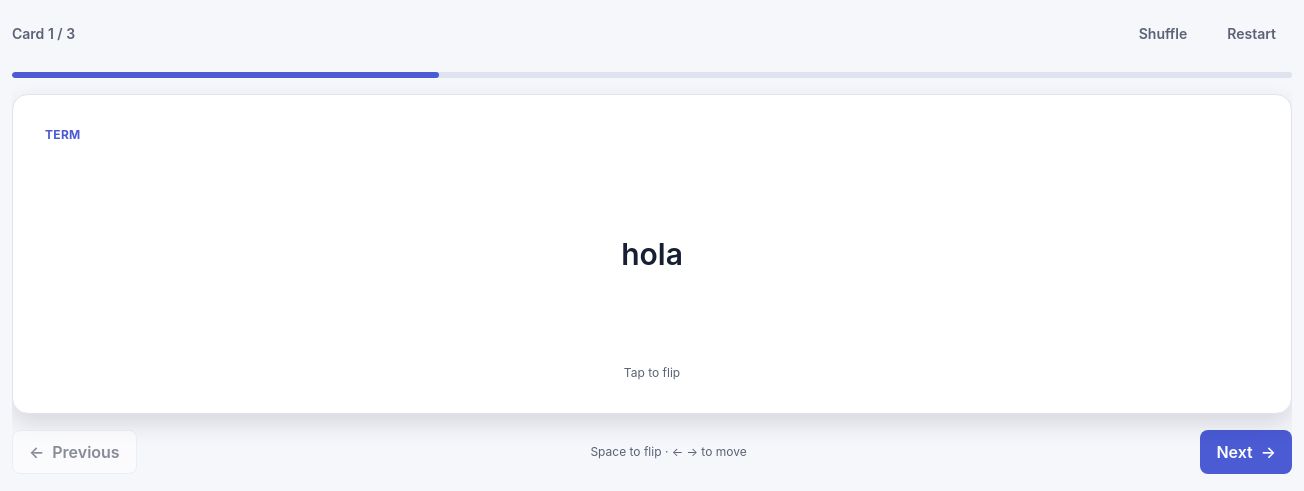
Test: FlashcardMode › shows the term first, reveals the definition, and moves between cards
Expected: the text "Card 1 / 3" is shown, [12,24,75,44]
Click the button with aria-label "Term: hola. Show definition".
click(652, 254)  # box [12,94,1292,414]
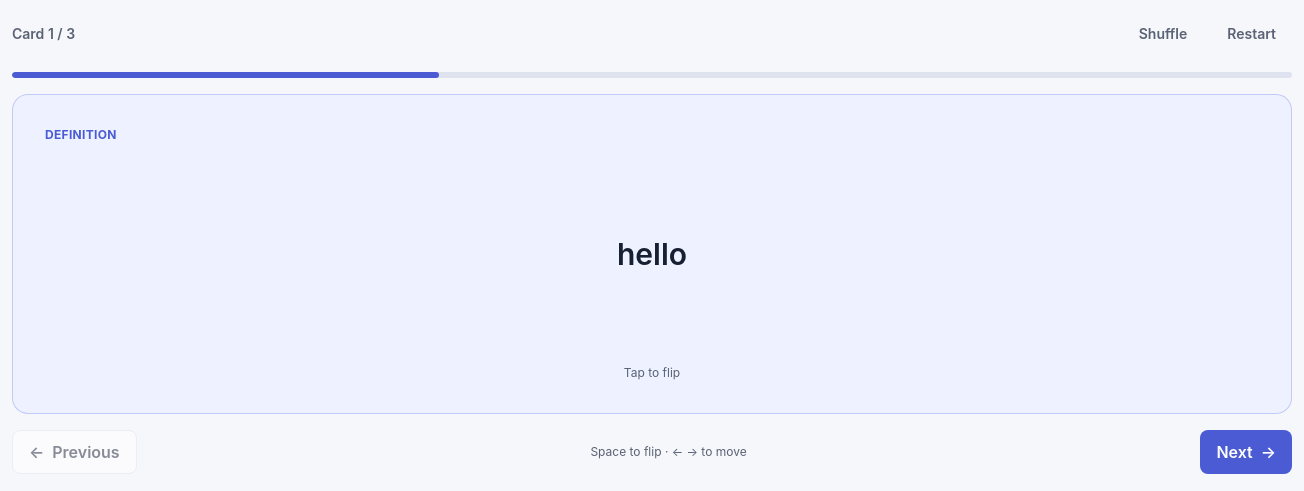
Expected: the button "← Previous" is disabled, [12,430,137,474]
Expected: the button with aria-label "Definition: hello. Show term" is shown
Click the button "Next →".
click(1246, 452)  # box [1200,430,1292,474]
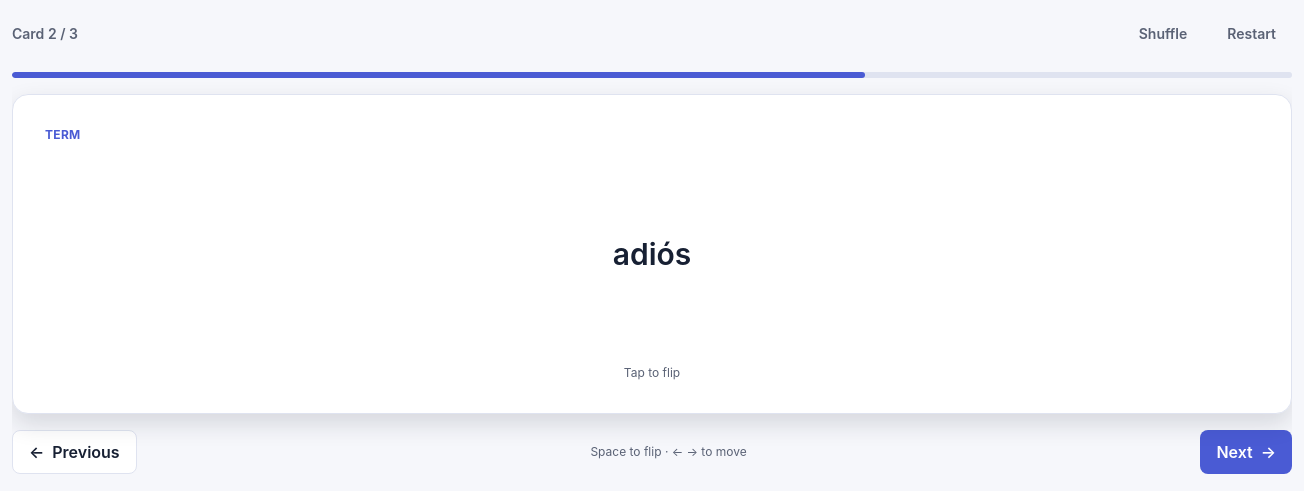
Expected: the text "Card 2 / 3" is shown, [12,24,78,44]
Expected: the button with aria-label "Term: adiós. Show definition" is shown
Click the button "← Previous".
click(74, 452)  # box [12,430,137,474]
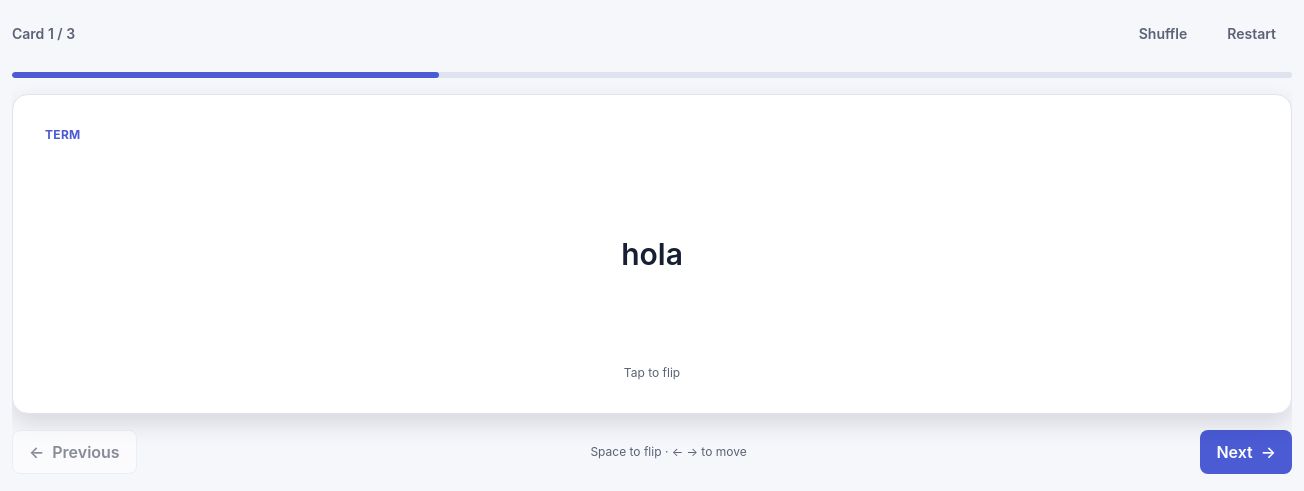
Expected: the text "Card 1 / 3" is shown, [12,24,75,44]
